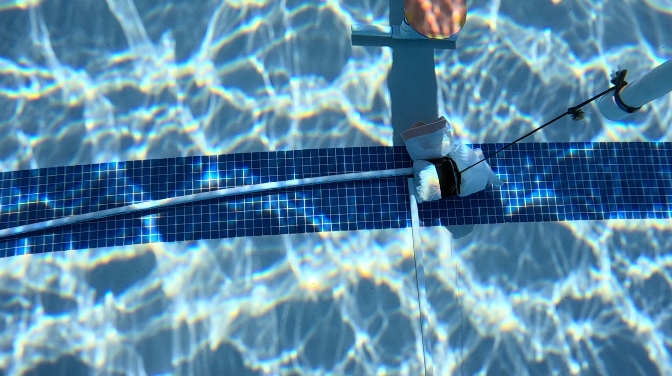pathmarker: (404, 0, 466, 38)
